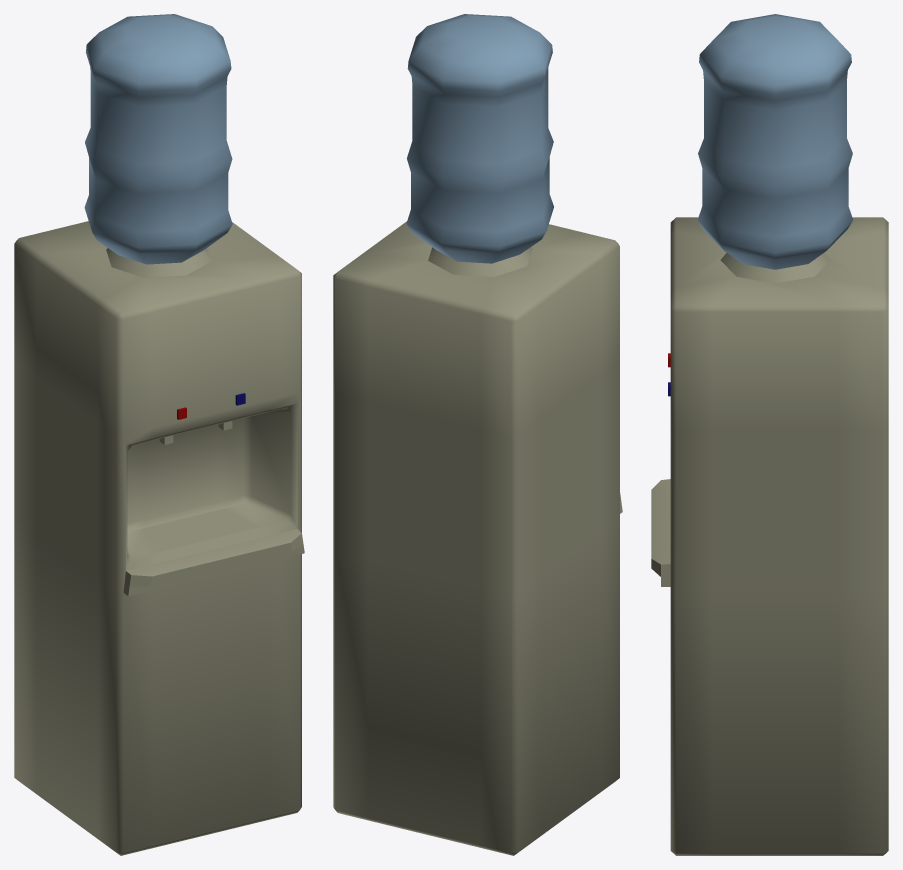
Rendered from Sebil.fbx.
3 renders of one model, left to right at view 1: azimuth 30°, elevation 25°; view 2: azimuth 150°, elevation 25°; view 3: azimuth 270°, elevation 25°, orthographic.
Visible parts, largest first — view 1: Cube; view 2: Cube; view 3: Cube.
Boxes of the visible parts, x1,y1,x2,y2 form: Cube: (14, 14, 304, 855); Cube: (333, 14, 622, 855); Cube: (651, 14, 888, 855).
Bounding box in the file's own units: 98.19 × 388 × 107.
